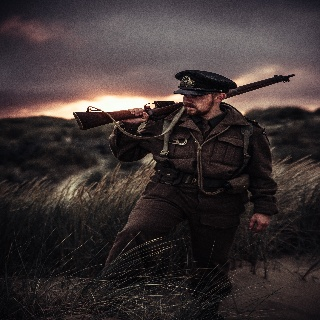rifle: (73, 71, 298, 134)
